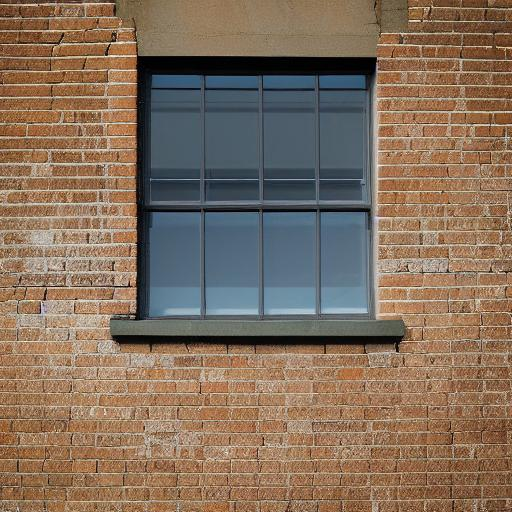Window: (109, 56, 406, 343)
